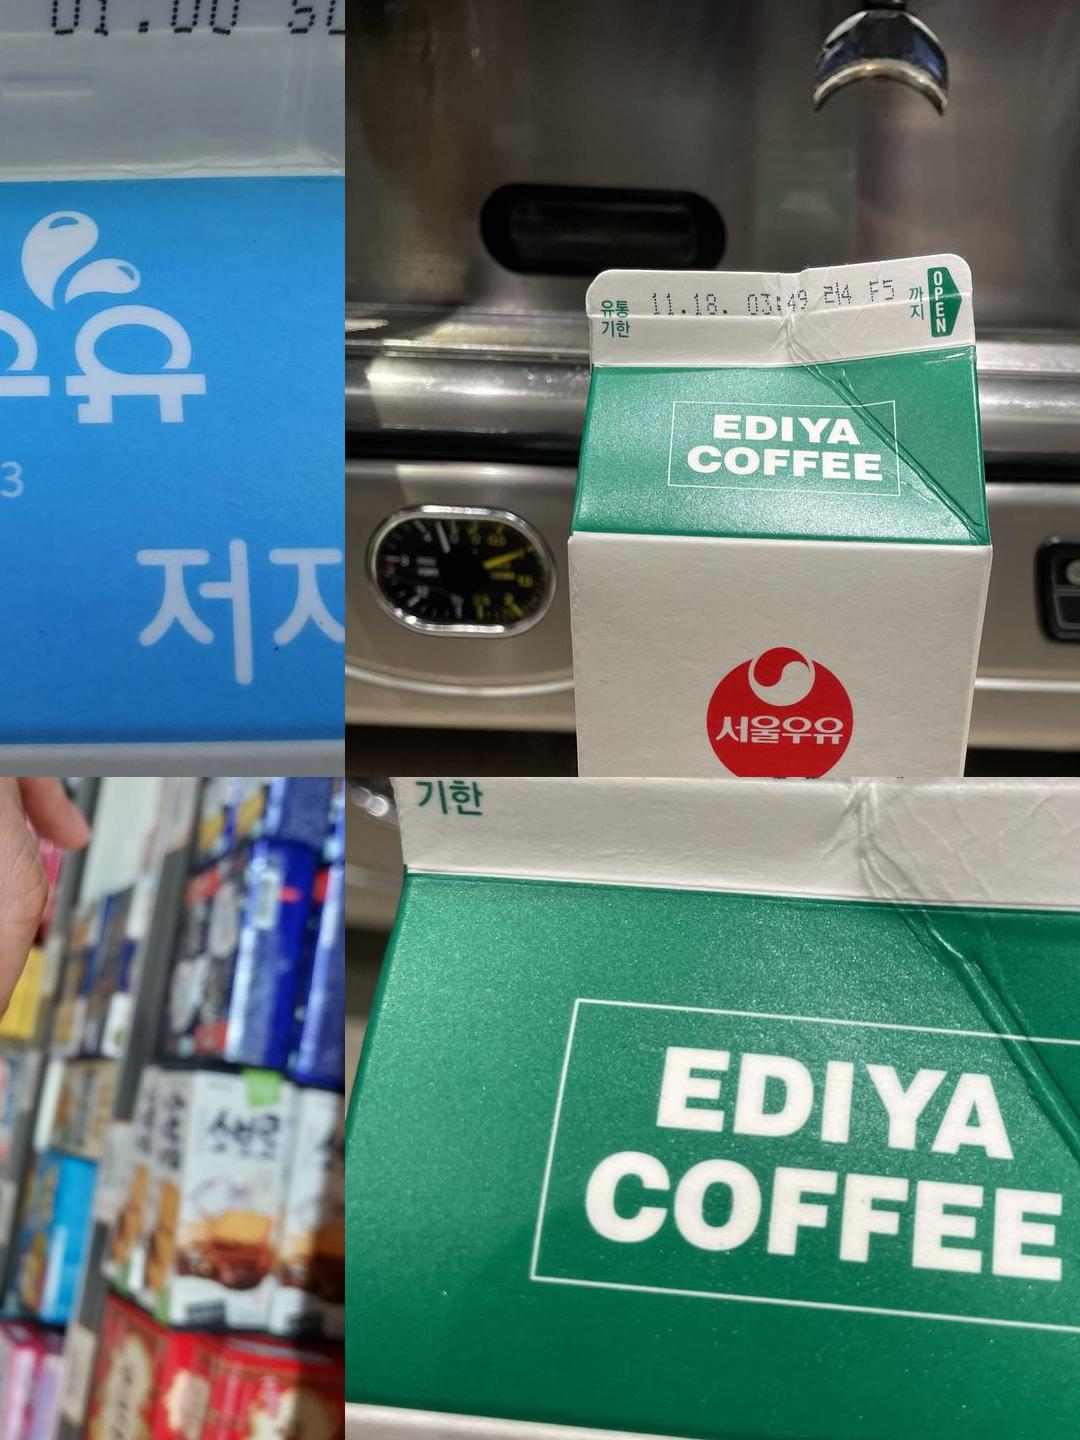milk: (370, 777, 1080, 922), (0, 0, 345, 170), (587, 266, 984, 367)
snack food: (0, 907, 52, 1270)
